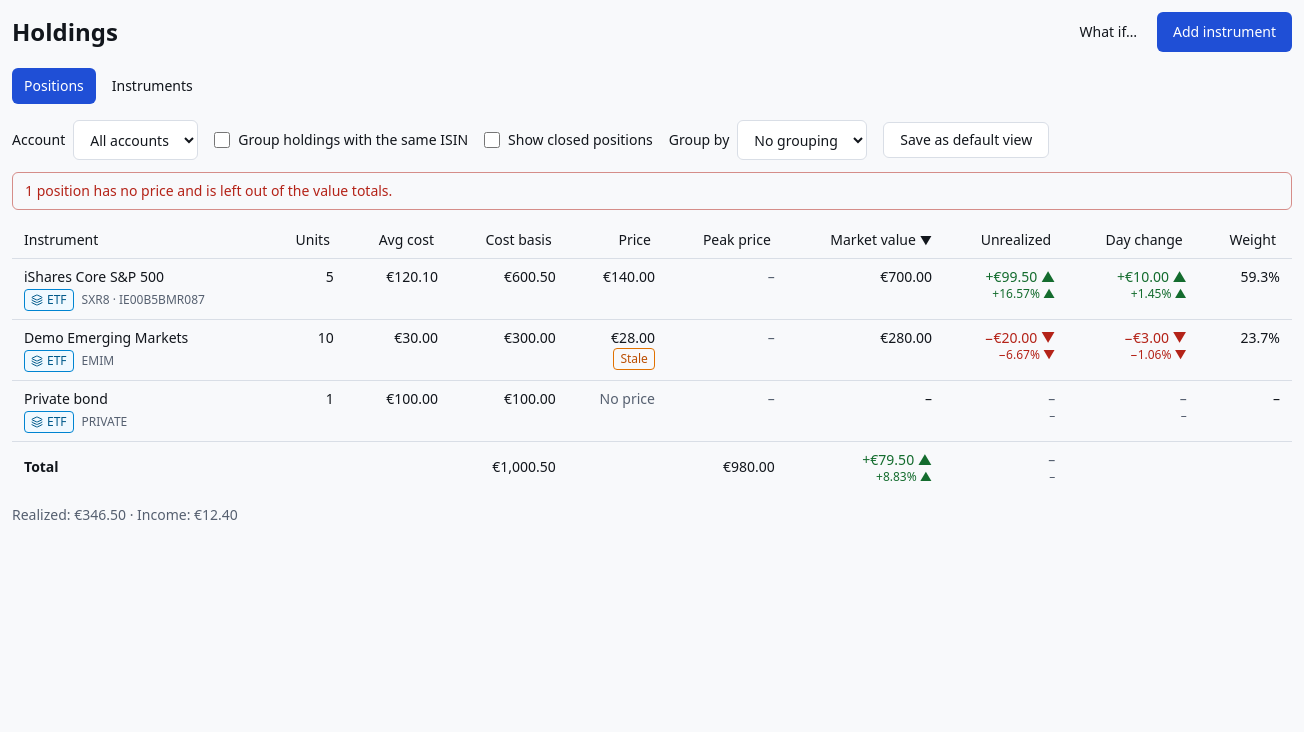
Test case: the instruments tab › lists instruments with their listing, last close and a stale marker
Click the tab "Instruments" at point(152, 86), box [100,68,205,104]
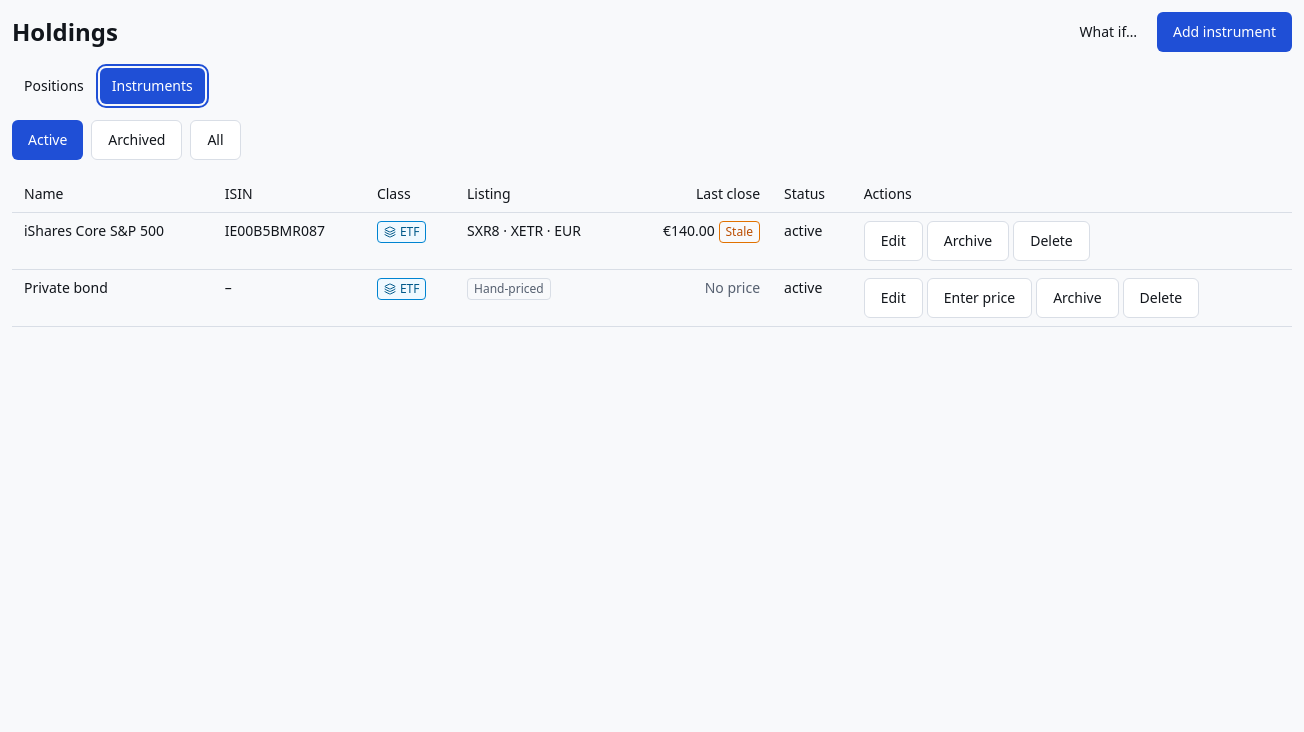
Expected: the row "iShares Core S&P 500" shows "SXR8 · XETR · EUR", [467,221,581,240]
Expected: the row "iShares Core S&P 500" shows "€140.00", [663,221,715,240]
Expected: the text "Hand-priced" is shown, [467,278,551,300]
